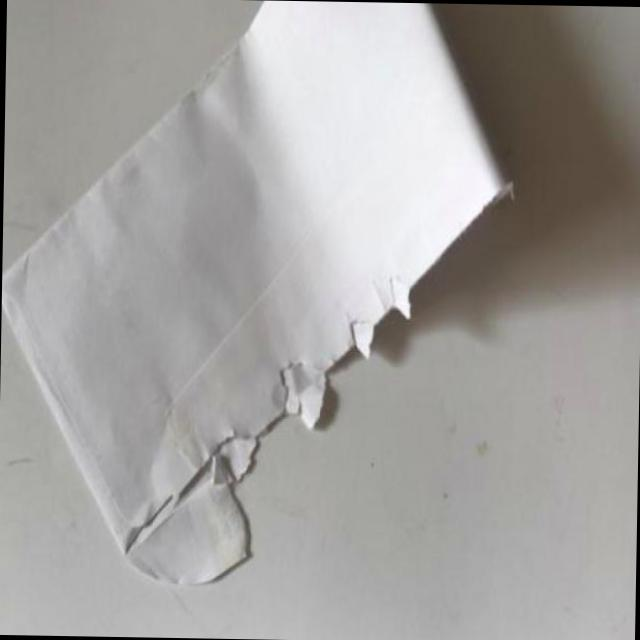cardboard paper: (0, 0, 499, 584)
